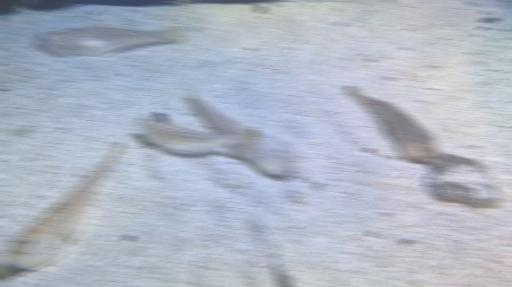Fish: (5, 139, 125, 269), (136, 89, 299, 176), (347, 86, 439, 161), (35, 25, 184, 57)
